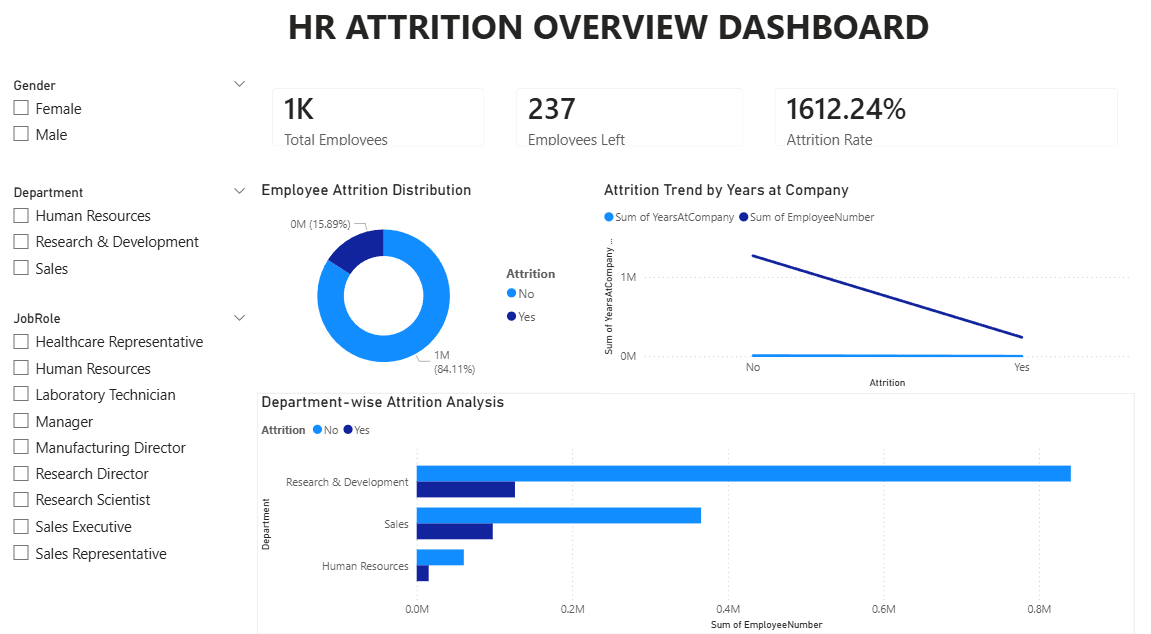

What the dashboard file says about the page in this screenshot:
{"tool":"powerbi","page":{"name":"HR Attrition Overview","canvas":[1280,720],"ordinal":0},"visuals":[{"type":"cardVisual","fields":{"Data":["HR-Employee-Attrition.Total Employees"]},"box":[289.5,102.9,267.6,98.8],"z":0},{"type":"cardVisual","fields":{"Data":["HR-Employee-Attrition.Employees Left"]},"box":[557.1,102.9,284,98.8],"z":1000},{"type":"cardVisual","fields":{"Data":["HR-Employee-Attrition.Attrition Rate"]},"box":[841.2,102.9,411.7,98.8],"z":2000},{"type":"donutChart","title":"Employee Attrition Distribution","fields":{"Category":["HR-Employee-Attrition.Attrition"],"Y":["Sum(HR-Employee-Attrition.EmployeeNumber)"]},"box":[289.5,220.9,349.9,233.3],"z":3000},{"type":"clusteredBarChart","title":"Department-wise Attrition Analysis","fields":{"Category":["HR-Employee-Attrition.Department"],"Y":["Sum(HR-Employee-Attrition.EmployeeNumber)"],"Series":["HR-Employee-Attrition.Attrition"]},"box":[289.5,454.2,963.3,266.2],"z":4000},{"type":"lineChart","title":"Attrition Trend by Years at Company","fields":{"Y":["Sum(HR-Employee-Attrition.YearsAtCompany)","Sum(HR-Employee-Attrition.EmployeeNumber)"],"Category":["HR-Employee-Attrition.Attrition"]},"box":[665.5,220.9,587.3,233.3],"z":5000},{"type":"slicer","fields":{"Values":["HR-Employee-Attrition.Gender"]},"box":[9.6,102.9,279.9,108.4],"z":6000},{"type":"slicer","fields":{"Values":["HR-Employee-Attrition.Department"]},"box":[9.6,220.9,279.9,116.6],"z":7000},{"type":"slicer","fields":{"Values":["HR-Employee-Attrition.JobRole"]},"box":[9.6,359.5,279.9,360.9],"z":8000},{"type":"textbox","box":[318.4,20.6,756.1,82.3],"z":9000}]}

Visuals, with their boxes in screenshot pixels (x1, y1, x2, y2), scaled from the page's 1280x720 canvas onto the 1151x634 screenshot:
cardVisual - HR-Employee-Attrition.Total Employees: region(260, 91, 501, 178)
cardVisual - HR-Employee-Attrition.Employees Left: region(501, 91, 756, 178)
cardVisual - HR-Employee-Attrition.Attrition Rate: region(756, 91, 1127, 178)
"Employee Attrition Distribution" donutChart: region(260, 195, 575, 400)
"Department-wise Attrition Analysis" clusteredBarChart: region(260, 400, 1127, 633)
"Attrition Trend by Years at Company" lineChart: region(598, 195, 1127, 400)
slicer - HR-Employee-Attrition.Gender: region(9, 91, 260, 186)
slicer - HR-Employee-Attrition.Department: region(9, 195, 260, 297)
slicer - HR-Employee-Attrition.JobRole: region(9, 317, 260, 633)
textbox: region(286, 18, 966, 91)
